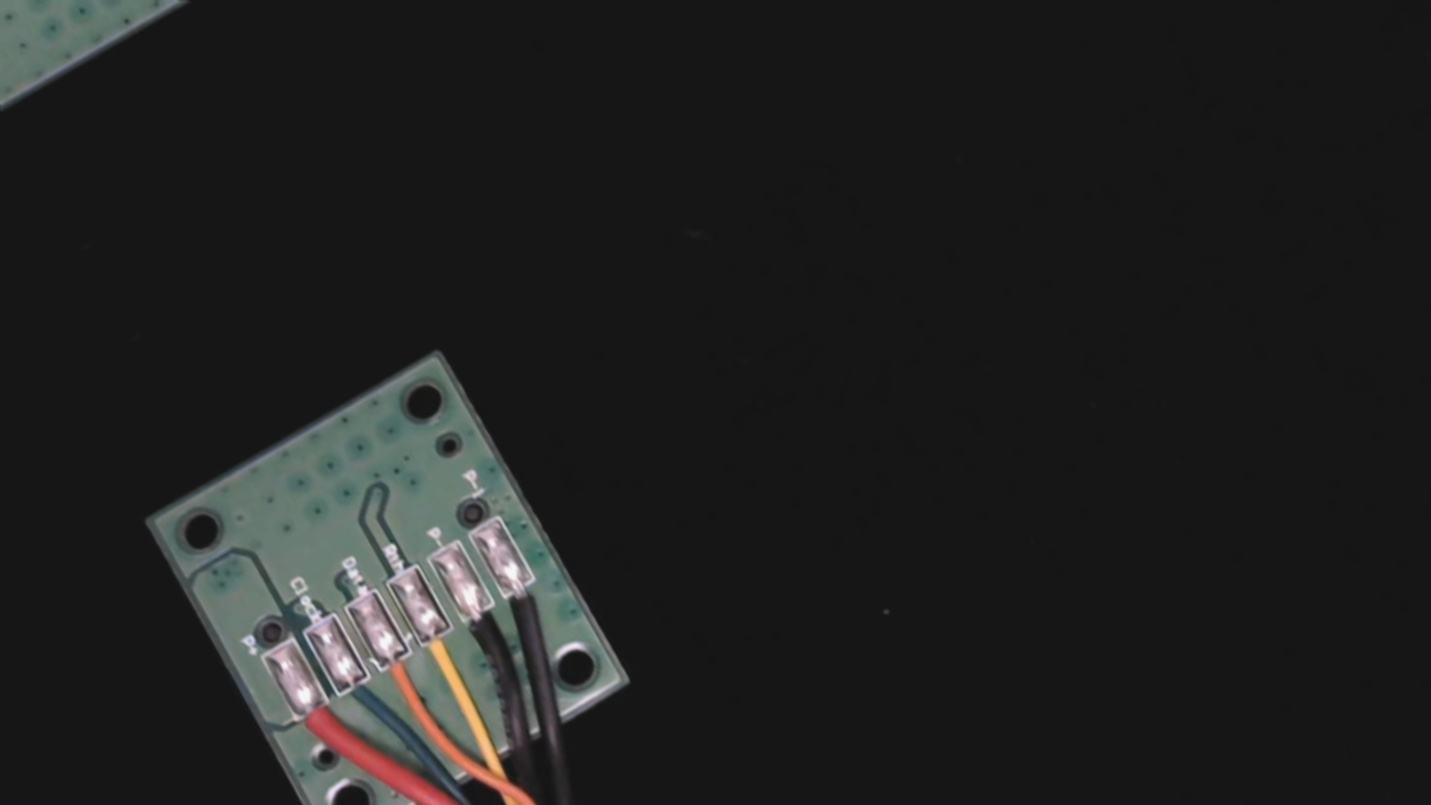Black: (451, 590, 524, 669)
Black1: (491, 564, 565, 645)
Green: (323, 661, 397, 740)
Orange: (369, 639, 438, 717)
Red: (281, 685, 358, 769)
Yellow: (408, 614, 485, 698)
